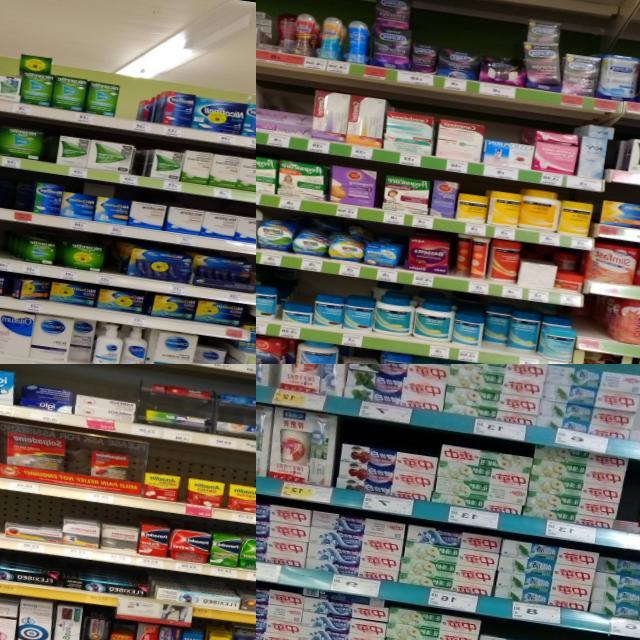void: (578, 292, 608, 352), (115, 88, 142, 130), (0, 219, 9, 270)
